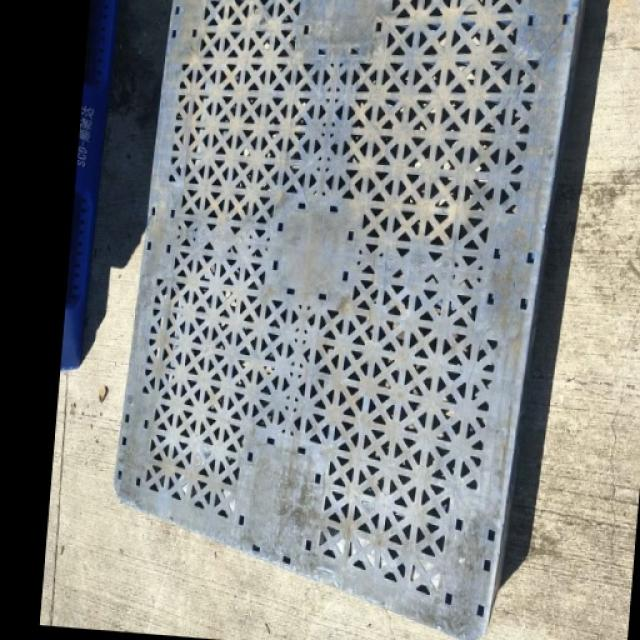non-igps: (109, 0, 593, 640)
